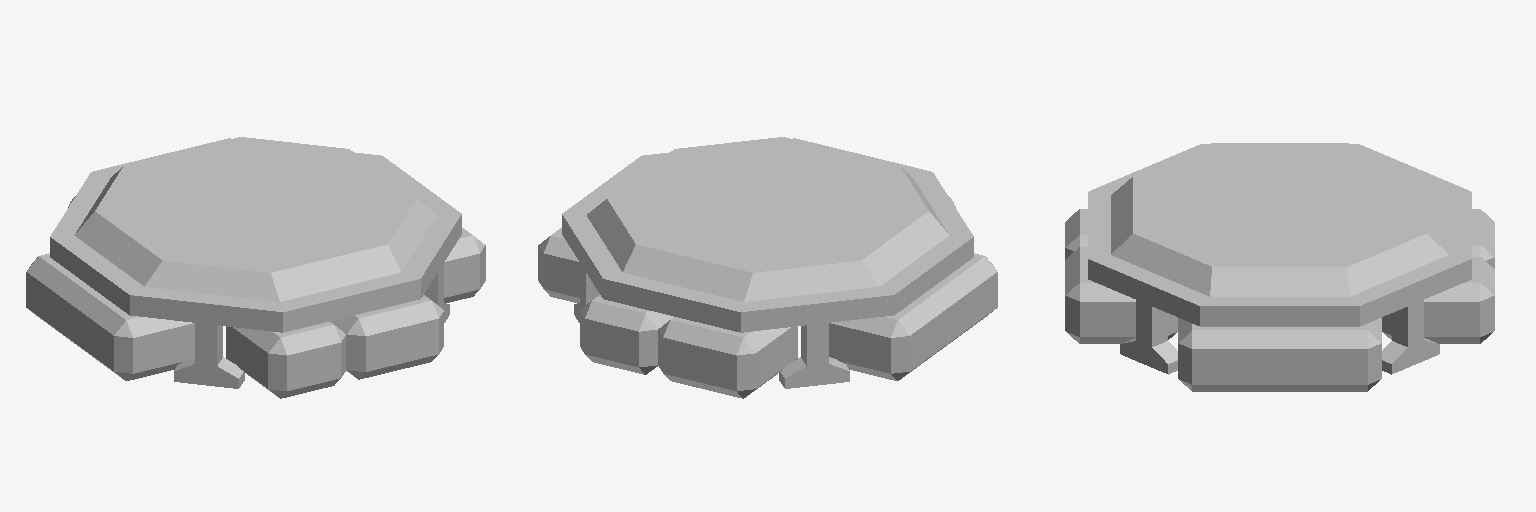
File: landingpad_small.obj
3 views of the same model, side by side, from view 1: azimuth 30°, elevation 25°; view 2: azimuth 150°, elevation 25°; view 3: azimuth 270°, elevation 25° (orthographic).
Visible parts, largest first — view 1: landingpad_small_Cylinder.2685; view 2: landingpad_small_Cylinder.2685; view 3: landingpad_small_Cylinder.2685.
Boxes of the visible parts, box(x1,y1,x2,y2) form: landingpad_small_Cylinder.2685: box(26, 137, 485, 398); landingpad_small_Cylinder.2685: box(538, 137, 997, 398); landingpad_small_Cylinder.2685: box(1065, 143, 1494, 391).
Size of the model in its own units: 1.9 by 0.5 by 1.9.